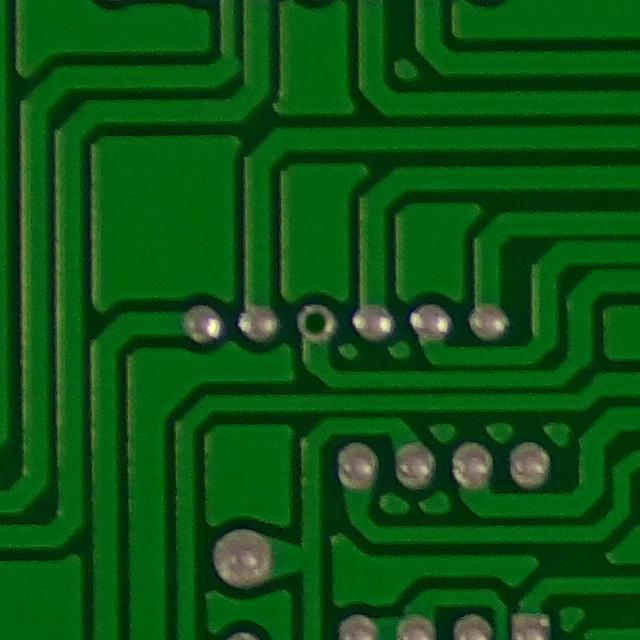missing_hole: (293, 296, 347, 345)
